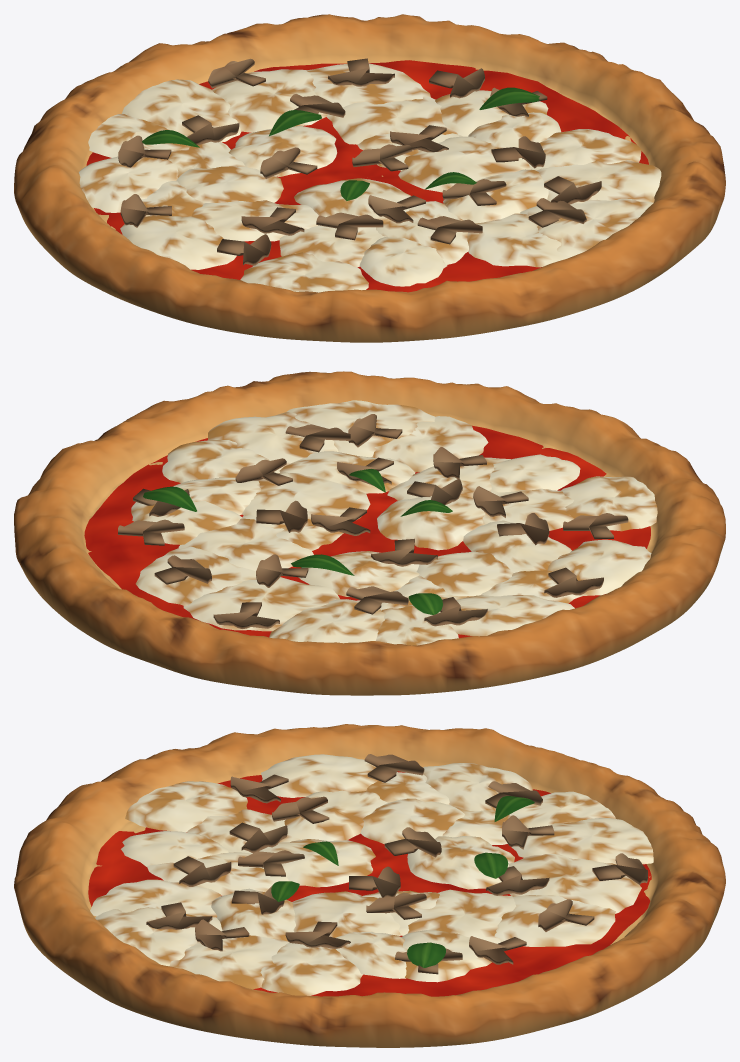
Rendered from pizza_funghi.glb.
The picture shows the model from 3 angles, top to bottom: view 1: azimuth 30°, elevation 25°; view 2: azimuth 150°, elevation 25°; view 3: azimuth 270°, elevation 25°; orthographic projection.
Visible parts, largest first — view 1: dough, sauce, cheese13, cheese14, cheese8, cheese21, cheese12, cheese5, cheese19, cheese6, cheese17, cheese24 (+38 smaller); view 2: dough, sauce, cheese13, cheese1, cheese17, cheese6, cheese19, cheese21, cheese8, cheese12, cheese9, cheese24 (+39 smaller); view 3: dough, sauce, cheese8, cheese13, cheese6, cheese23, cheese9, cheese24, cheese14, cheese19, cheese0, cheese21 (+38 smaller).
Part boxes in pixels (<box>): dough: <box>14,14,725,342</box>; sauce: <box>86,60,648,292</box>; cheese13: <box>212,69,327,132</box>; cheese14: <box>120,216,236,269</box>; cheese8: <box>121,79,241,142</box>; cheese21: <box>398,136,530,192</box>; cheese12: <box>467,213,570,267</box>; cheese5: <box>78,156,178,212</box>; cheese19: <box>326,96,457,144</box>; cheese6: <box>240,252,368,292</box>; cheese17: <box>520,198,653,256</box>; cheese24: <box>536,160,661,203</box>; dough: <box>14,371,725,695</box>; sauce: <box>84,425,650,637</box>; cheese13: <box>183,577,340,631</box>; cheese1: <box>377,495,485,550</box>; cheese17: <box>287,400,435,457</box>; cheese6: <box>561,476,657,531</box>; cheese19: <box>178,518,313,571</box>; cheese21: <box>242,472,370,519</box>; cheese8: <box>269,599,385,643</box>; cheese12: <box>371,416,488,472</box>; cheese9: <box>135,546,256,606</box>; cheese24: <box>208,412,338,470</box>; dough: <box>14,724,725,1047</box>; sauce: <box>88,771,651,996</box>; cheese8: <box>511,818,653,864</box>; cheese13: <box>509,854,641,913</box>; cheese6: <box>125,781,247,832</box>; cheese23: <box>260,943,362,995</box>; cheese9: <box>494,895,615,946</box>; cheese24: <box>169,935,289,989</box>; cheese14: <box>261,754,378,797</box>; cheese19: <box>402,889,516,943</box>; cheese0: <box>407,836,514,889</box>; cheese21: <box>292,891,400,937</box>.
Size of the model in its own units: 2 by 0.1363 by 2.
